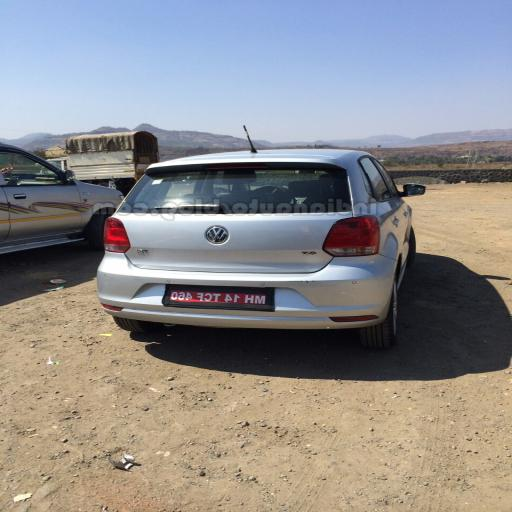License: (167, 286, 273, 305)
